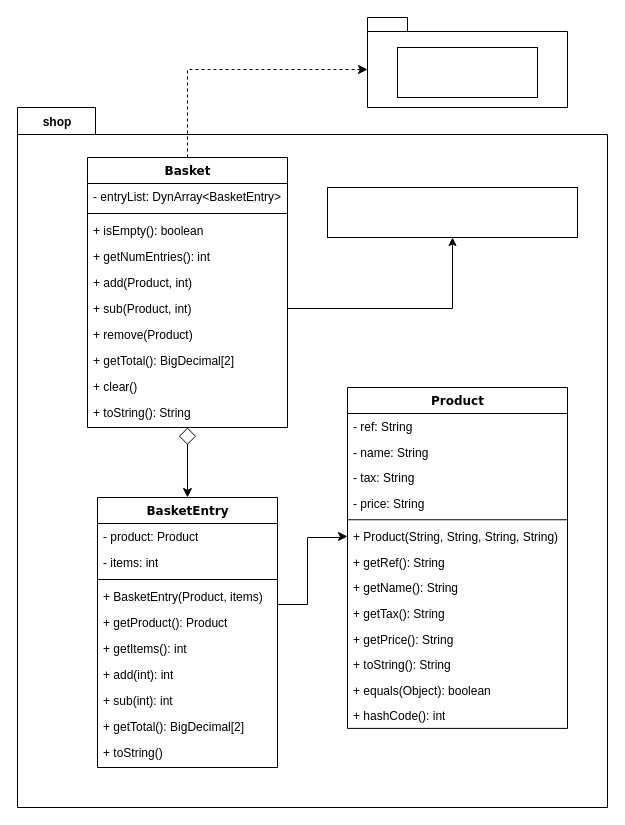
Some shapes in this 625 by 825 pixel diagram are drawn without their labels. Each missing label, with the centre of its shape:
"DynArray" belongs at (x=467, y=72).
"NoProductInBasketException" belongs at (x=452, y=212).
